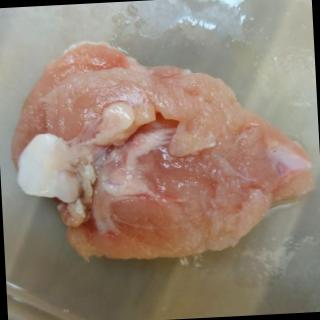Ayam: (6, 29, 320, 268)
